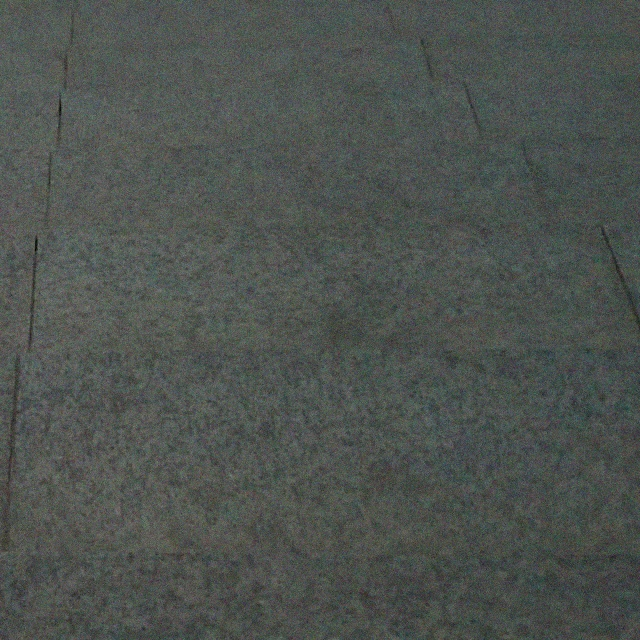stair: (0, 36, 620, 552)
